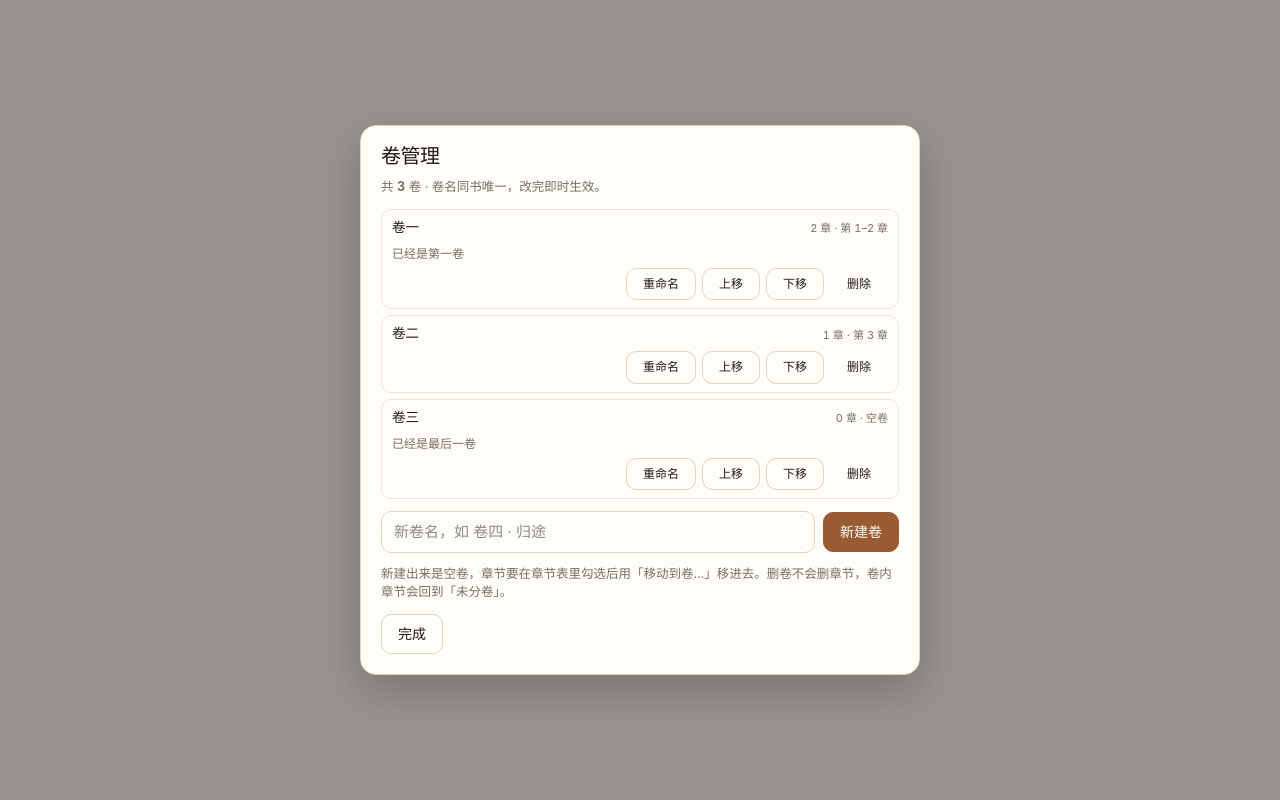
卷管理弹窗 › 下移同理，失败时不回传成功
The width and height of the screenshot is (1280, 800).
Click the button with test id "volume-down-1": [795, 284] box 766,268 -> 824,300
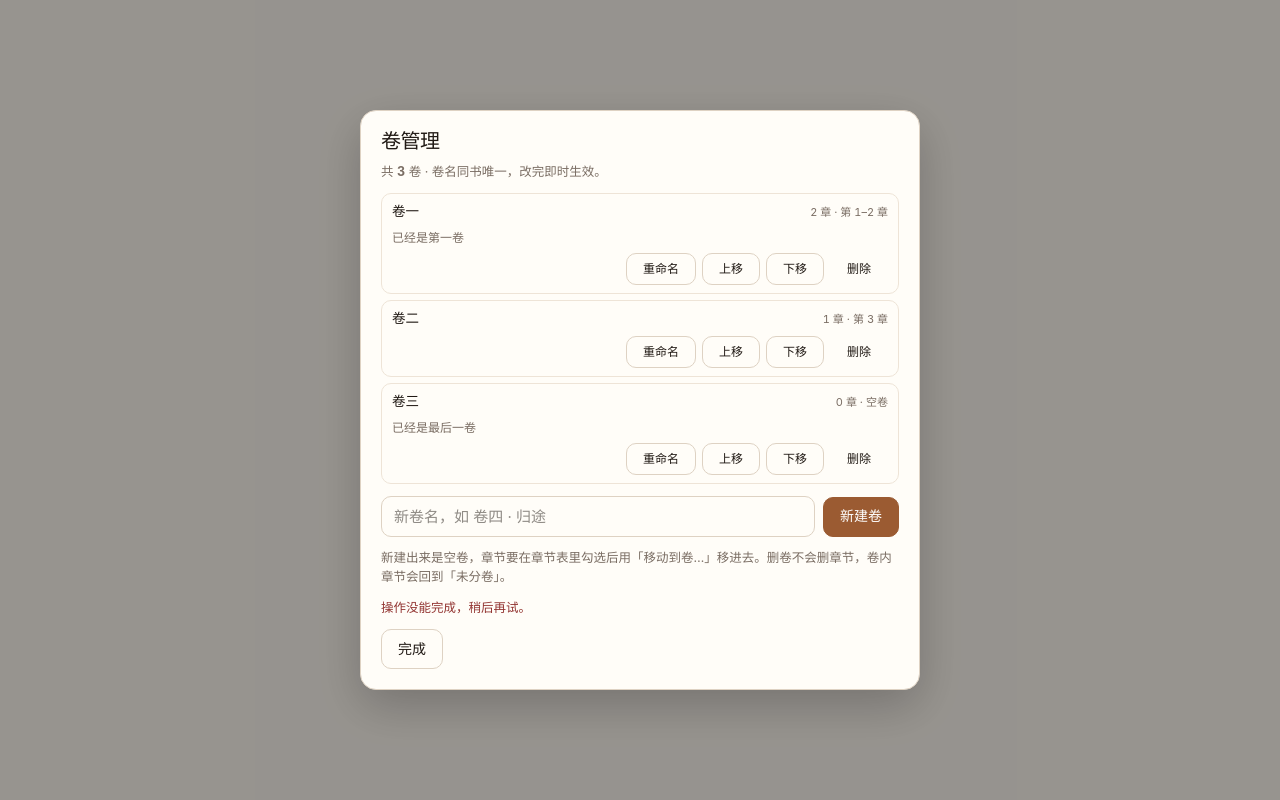
Check: the message with test id "volume-error" reads "操作没能完成，稍后再试。", box 381,600 -> 531,615
